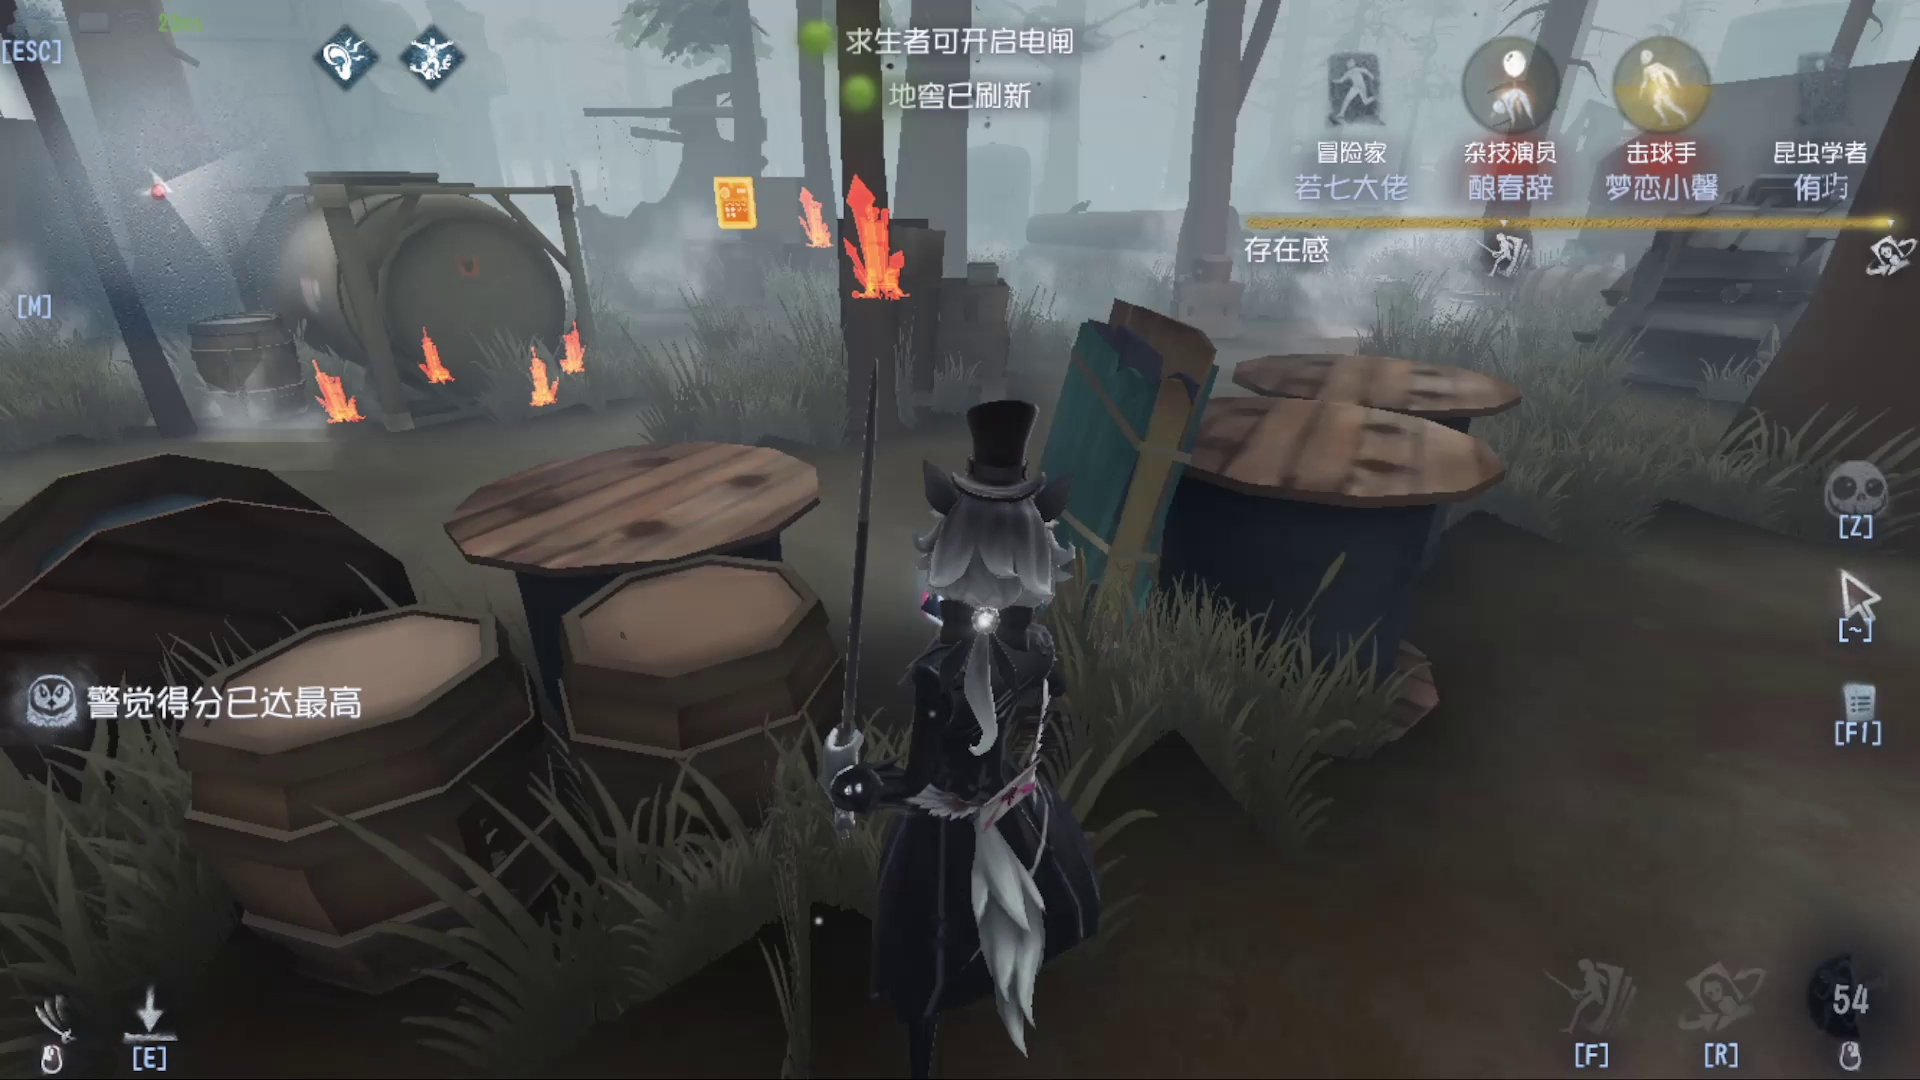木板: (1000, 305, 1203, 665)
狂欢之椅: (812, 171, 926, 324), (290, 357, 376, 448), (513, 331, 578, 434), (781, 171, 845, 274), (415, 314, 473, 413)
